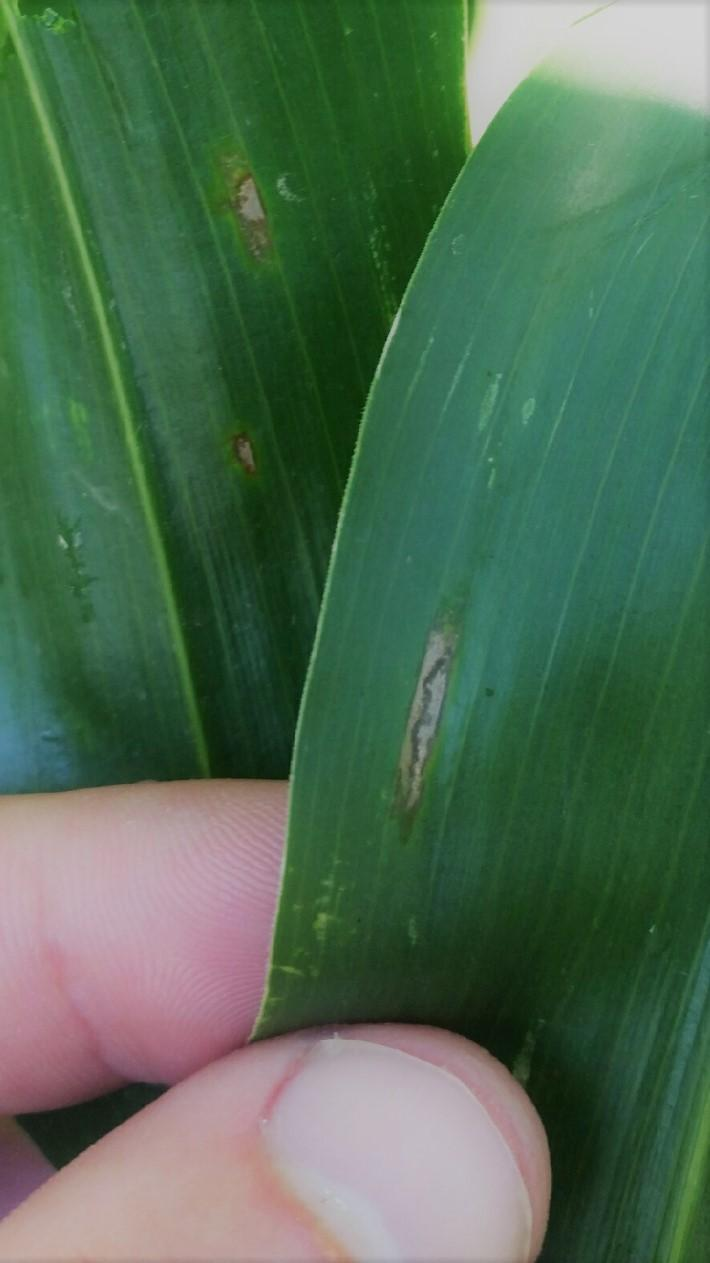Corn Gray leaf spot: (283, 19, 688, 990)
